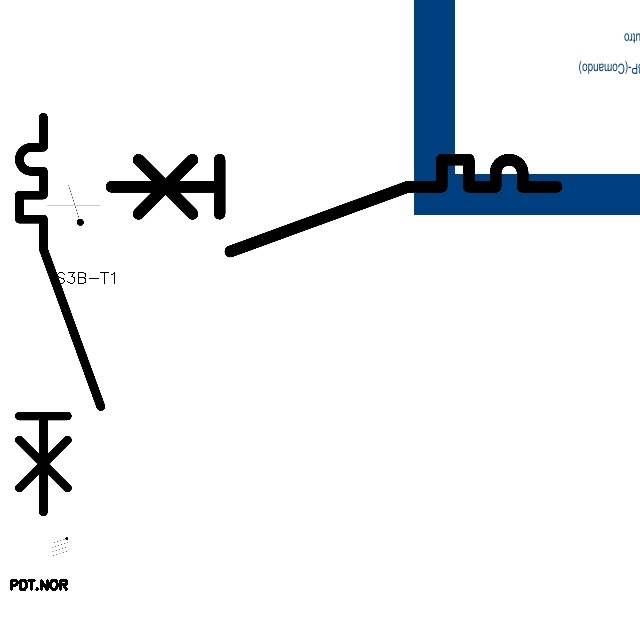interruptor_termomagnetico: (99, 148, 567, 262), (9, 107, 110, 522)
